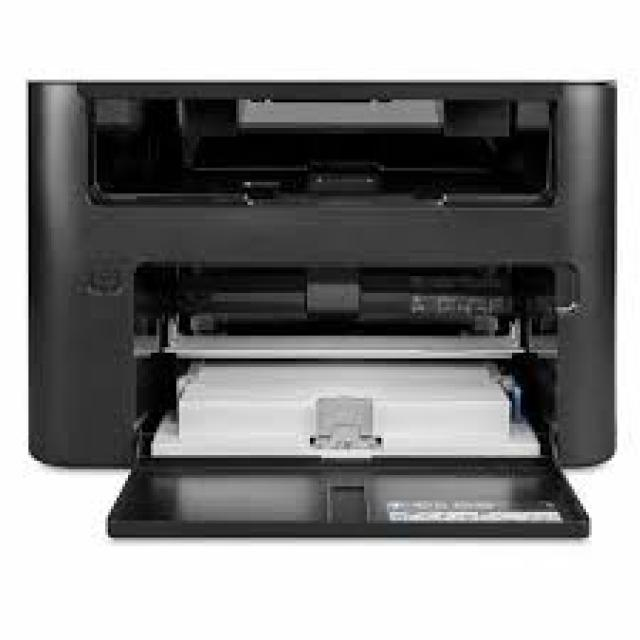printer: (26, 76, 617, 538)
